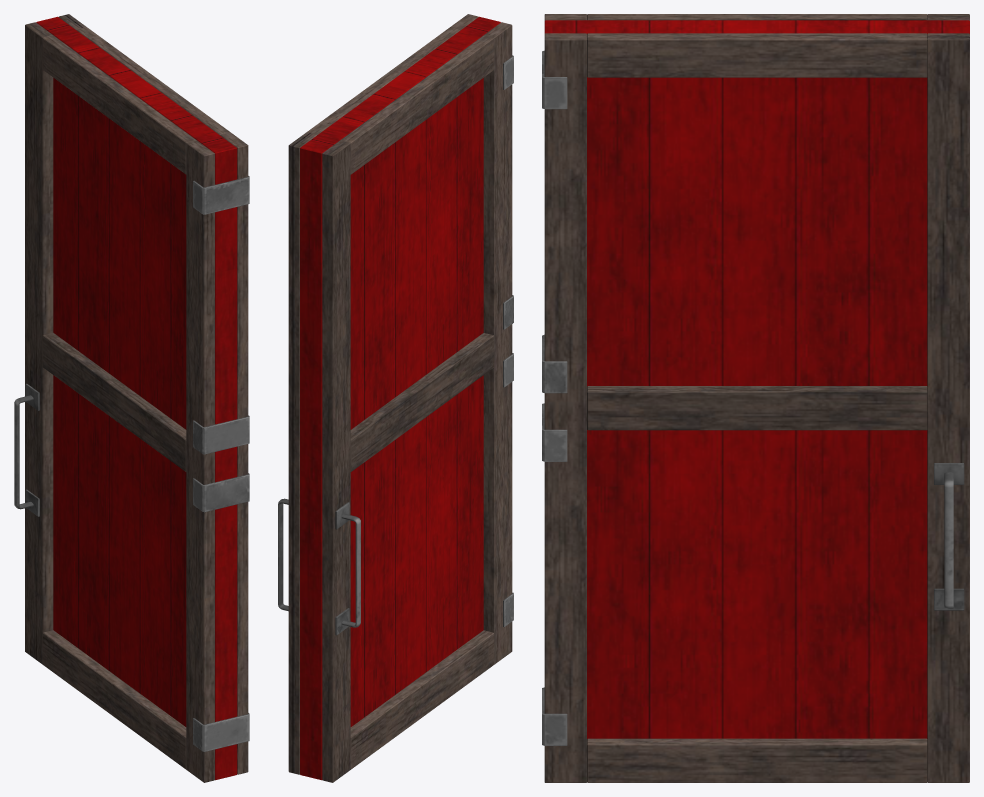
The model's file is Stable_DoorBig_LP.glb.
The picture shows the model from 3 angles, left to right: view 1: azimuth 30°, elevation 25°; view 2: azimuth 150°, elevation 25°; view 3: azimuth 270°, elevation 25°; orthographic projection. The views are drawn at different scales.
Visible parts, largest first — view 1: Stable_DoorBig_LP; view 2: Stable_DoorBig_LP; view 3: Stable_DoorBig_LP.
Boxes of the visible parts, x1,y1,x2,y2 form: Stable_DoorBig_LP: (14, 14, 249, 782); Stable_DoorBig_LP: (278, 14, 513, 782); Stable_DoorBig_LP: (542, 14, 969, 782).
Size of the model in its own units: 0.5648 by 4.18 by 2.18.
Materials: 2 (2 with a texture image).
